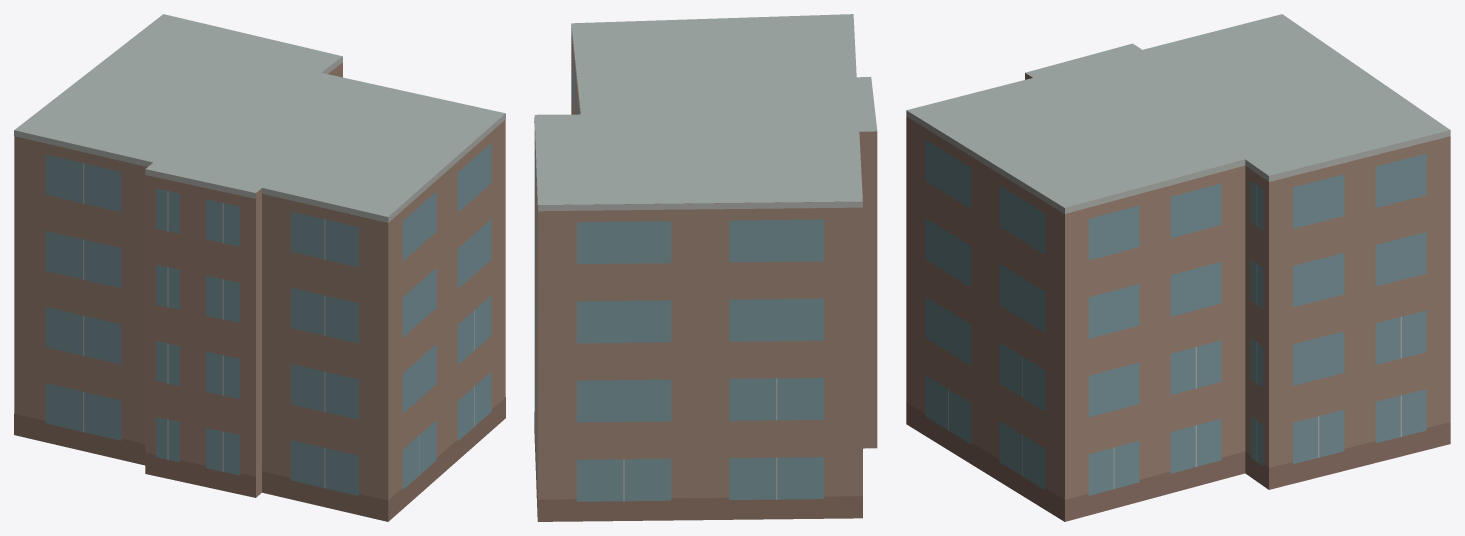
The model's file is survey-upis-32568791.glb.
3 views of the same model, side by side, from view 1: azimuth 30°, elevation 25°; view 2: azimuth 150°, elevation 25°; view 3: azimuth 270°, elevation 25° (orthographic). The views are drawn at different scales.
Parts seen in each view (by area): view 1: survey-upis-32568791.tmp; view 2: survey-upis-32568791.tmp; view 3: survey-upis-32568791.tmp.
Boxes of the visible parts, x1,y1,x2,y2 form: survey-upis-32568791.tmp: [14, 14, 505, 521]; survey-upis-32568791.tmp: [534, 14, 877, 521]; survey-upis-32568791.tmp: [906, 14, 1450, 521].
Bounding box in the file's own units: 16.7 × 12.59 × 19.8.
